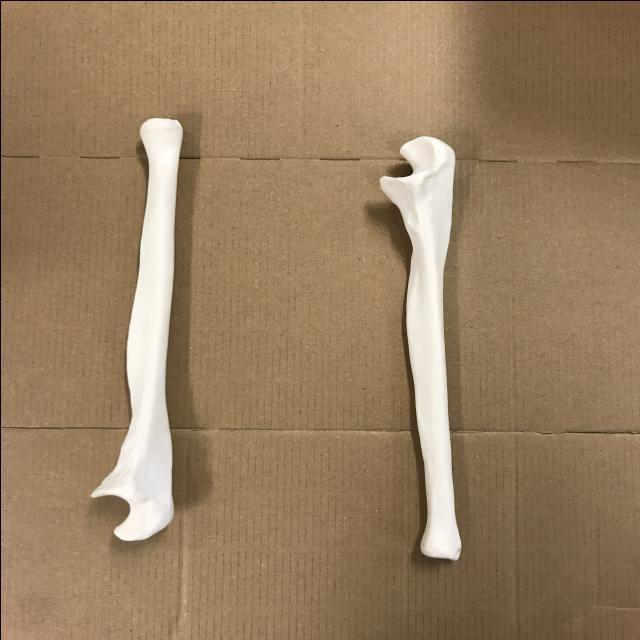bone: (86, 106, 195, 546), (372, 128, 472, 564)
